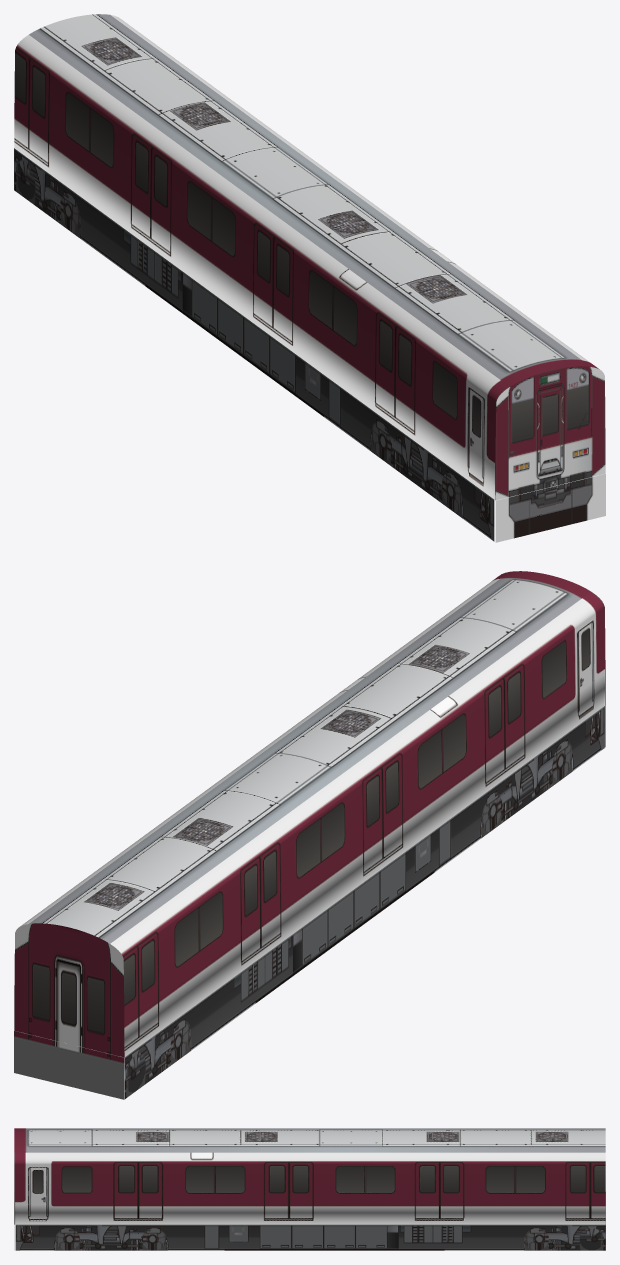
Rendered from car1.glb.
3 views of the same model, one above another, from view 1: azimuth 30°, elevation 25°; view 2: azimuth 150°, elevation 25°; view 3: azimuth 270°, elevation 25° (orthographic). The views are drawn at different scales.
Parts seen in each view (by area): view 1: kintetsu-1200-car1; view 2: kintetsu-1200-car1; view 3: kintetsu-1200-car1.
Part boxes in pixels (x1,y1,x2,y2): kintetsu-1200-car1: (14,14,605,542); kintetsu-1200-car1: (14,571,605,1099); kintetsu-1200-car1: (14,1128,605,1250).
Bounding box in the file's own units: 2.74 × 3.77 × 20.75.
9 materials, 8 textured.
